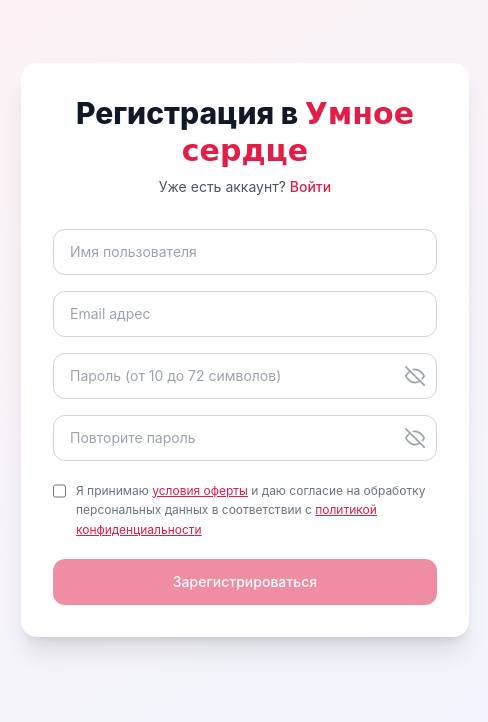
Test: Register › shows network error when no response
Type "anna" into the field with placeholder "Имя пользователя" at (245, 252), box [53, 229, 437, 275]
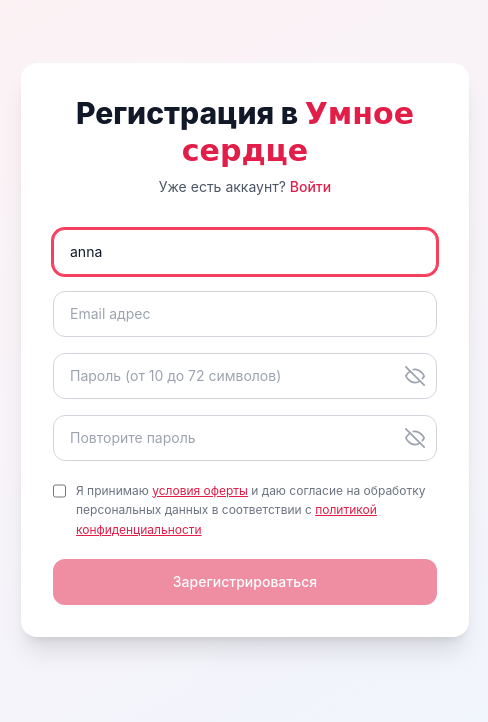
Type "anna@example.com" into the field with placeholder "Email адрес" at (245, 314), box [53, 291, 437, 337]
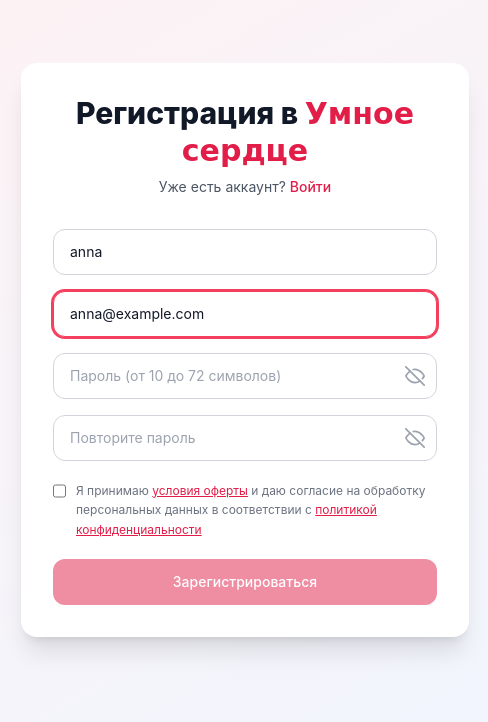
Type "Password123!" into the password field with placeholder "Пароль (от 10 до 72 символов)" at (245, 376), box [53, 353, 437, 399]
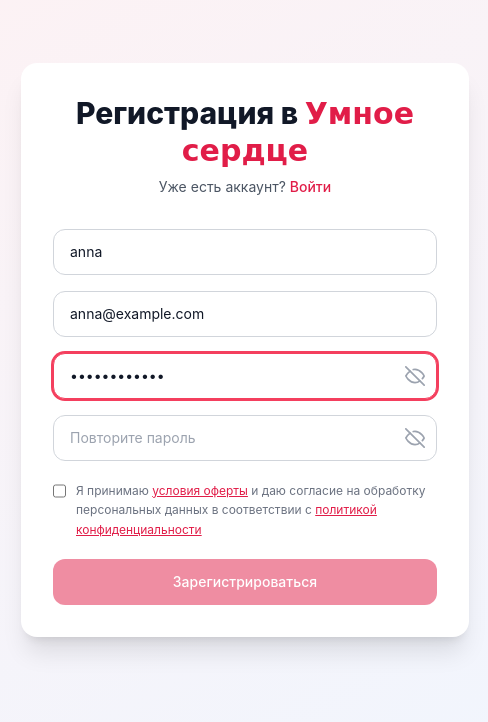
Type "Password123!" into the password field with placeholder "Повторите пароль" at (245, 438), box [53, 415, 437, 461]
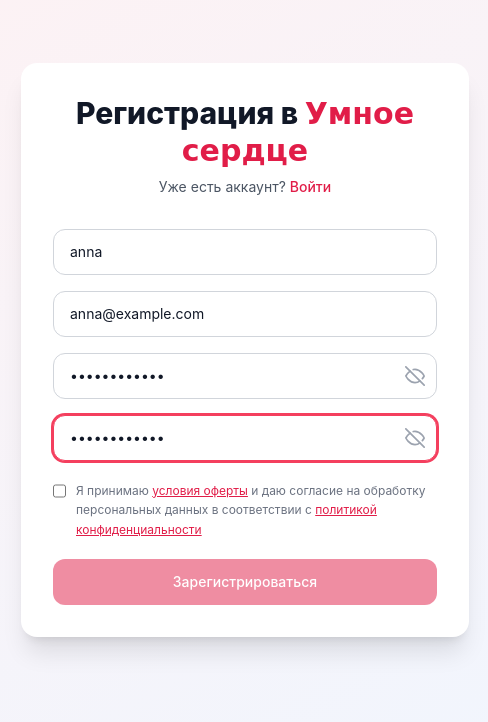
Click the checkbox at (60, 491), box [53, 483, 66, 499]
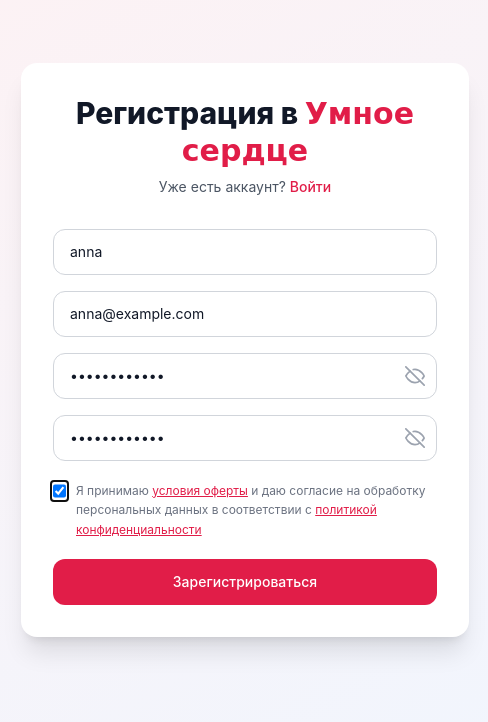
Click the button "Зарегистрироваться" at (245, 582), box [53, 559, 437, 605]
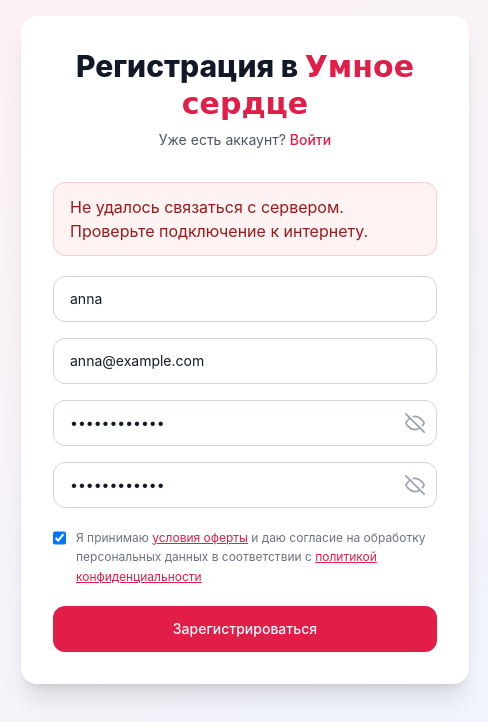
Check: the text "Не удалось связаться с сервером. Проверьте подключение к интернету." is shown, box [53, 182, 437, 256]
